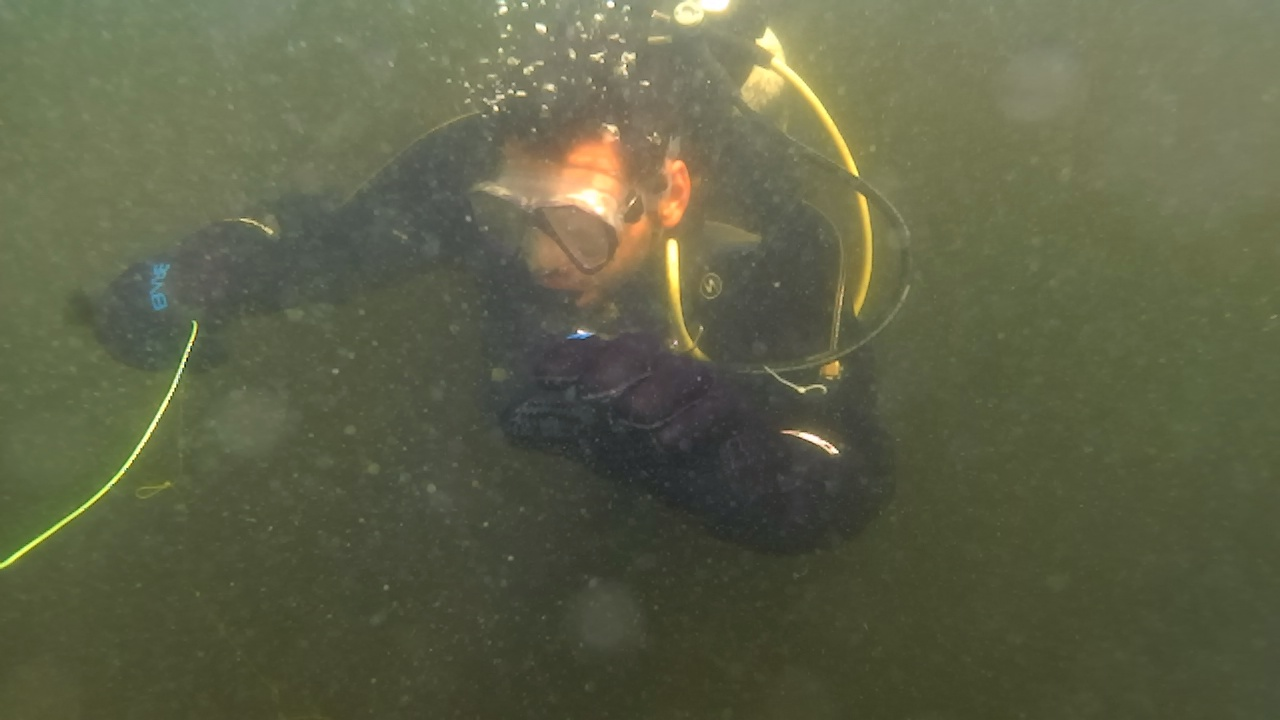Diver: (30, 4, 910, 554)
Hand: (520, 326, 788, 530), (102, 238, 232, 382)
Head: (458, 118, 688, 316)
